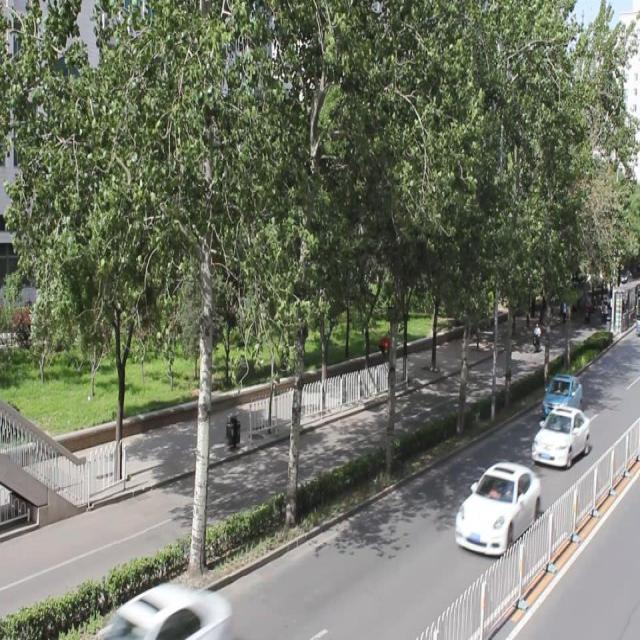car: (453, 460, 539, 555), (100, 579, 229, 640), (530, 402, 589, 467), (540, 372, 581, 423)
